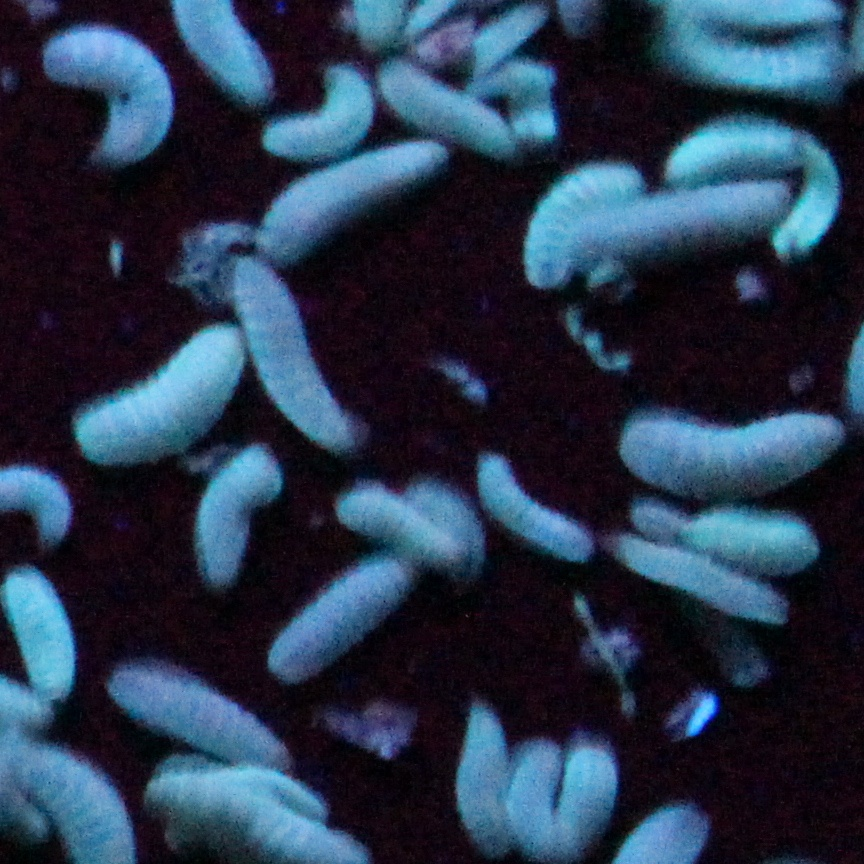larve: (238, 257, 362, 455), (670, 110, 838, 253), (73, 323, 242, 461), (270, 143, 446, 259), (270, 553, 419, 688), (113, 661, 293, 768), (44, 23, 175, 161), (573, 184, 795, 264), (619, 414, 846, 492), (521, 164, 646, 286), (615, 535, 787, 623), (662, 10, 840, 92), (381, 61, 519, 155), (475, 455, 591, 561), (193, 447, 285, 580), (344, 478, 468, 570), (258, 66, 372, 157), (454, 702, 513, 861), (701, 506, 821, 582), (468, 4, 548, 78), (513, 741, 558, 859), (409, 480, 481, 549), (246, 770, 324, 817), (636, 504, 689, 543)
